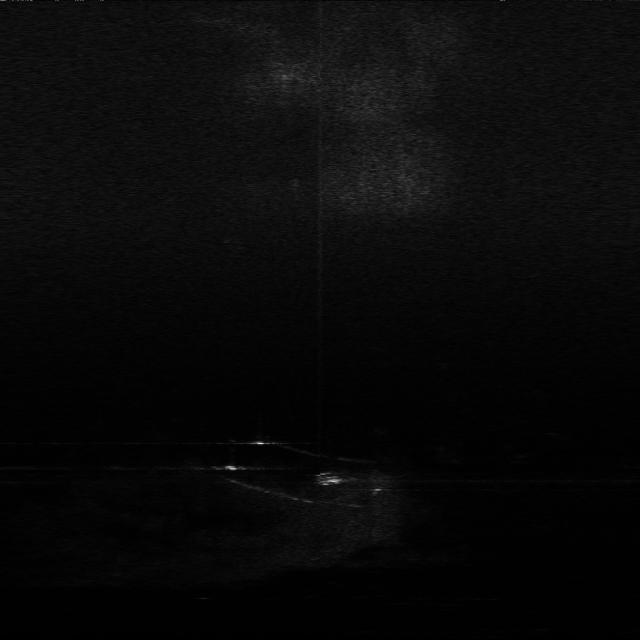rov: (316, 469, 344, 486)
